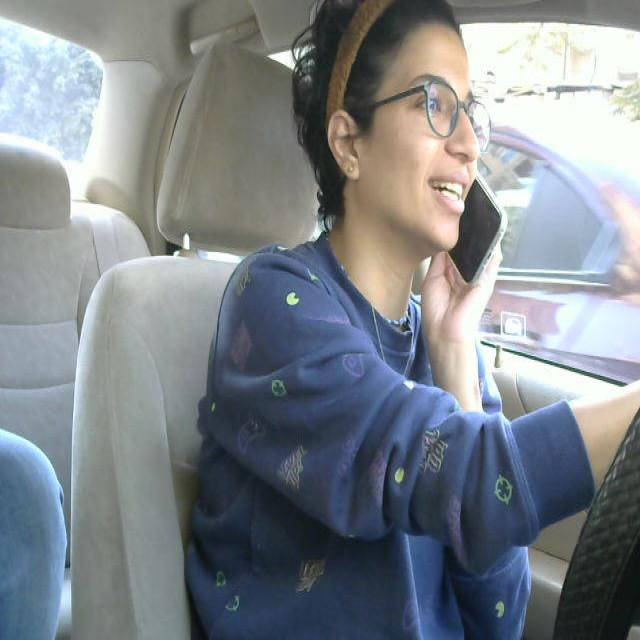mobile use: (448, 172, 508, 294)
